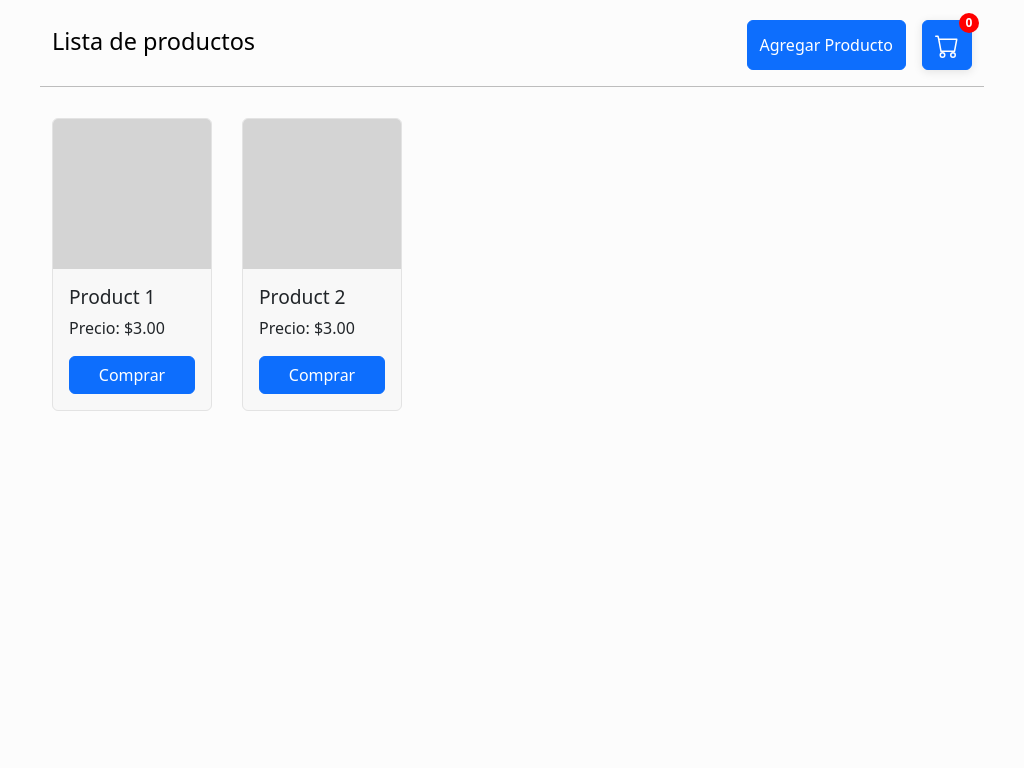
Test case: ProductList Component › shows modal when "Agregar Producto" button is clicked
The width and height of the screenshot is (1024, 768).
Click the button "Agregar Producto". click: (826, 45)
box: [746,20,906,70]
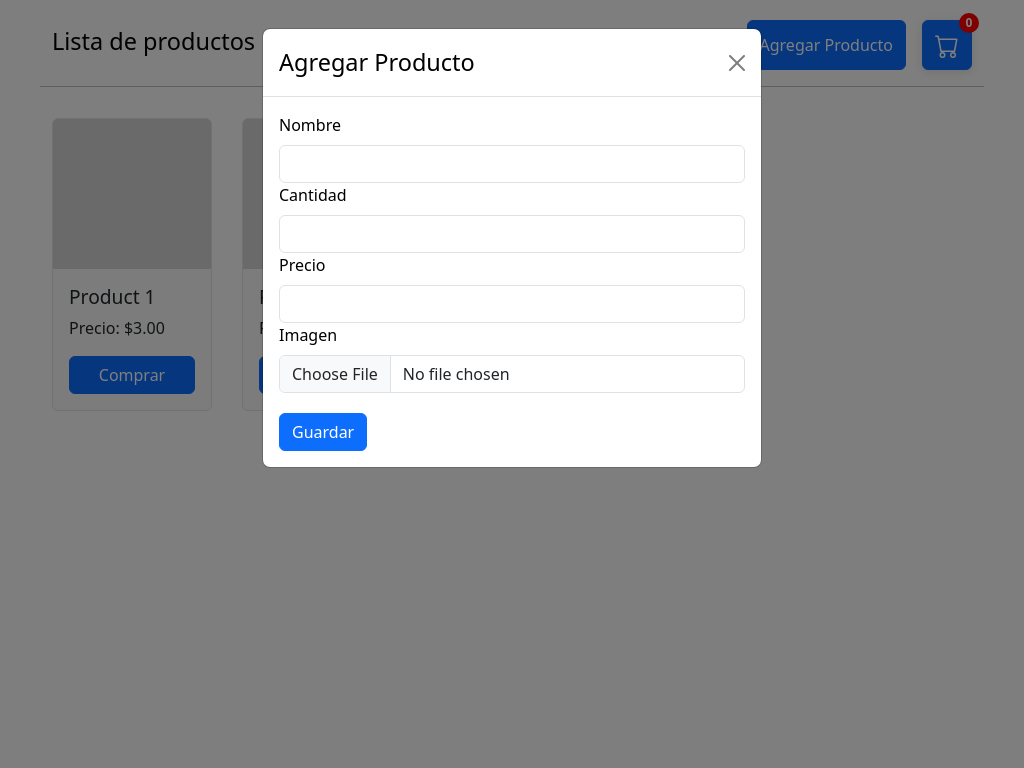
expect the element with test id "modal" that starts with "Agregar Producto" is shown: met, box [262,28,762,468]
